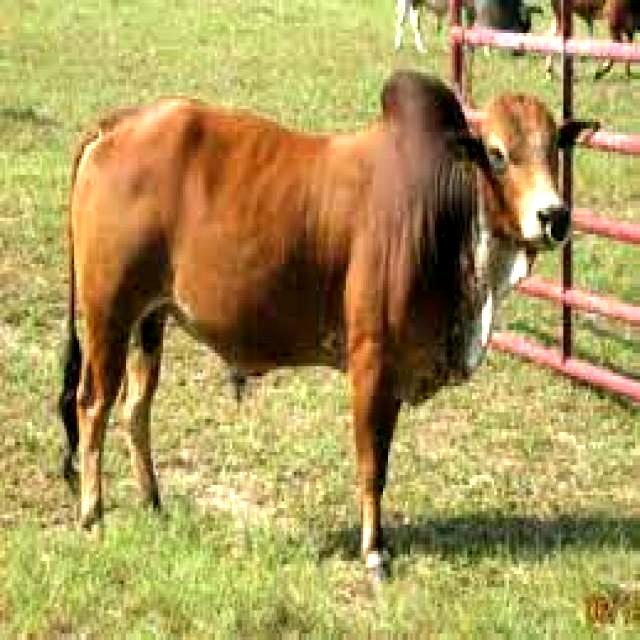COW: (60, 71, 588, 571)
